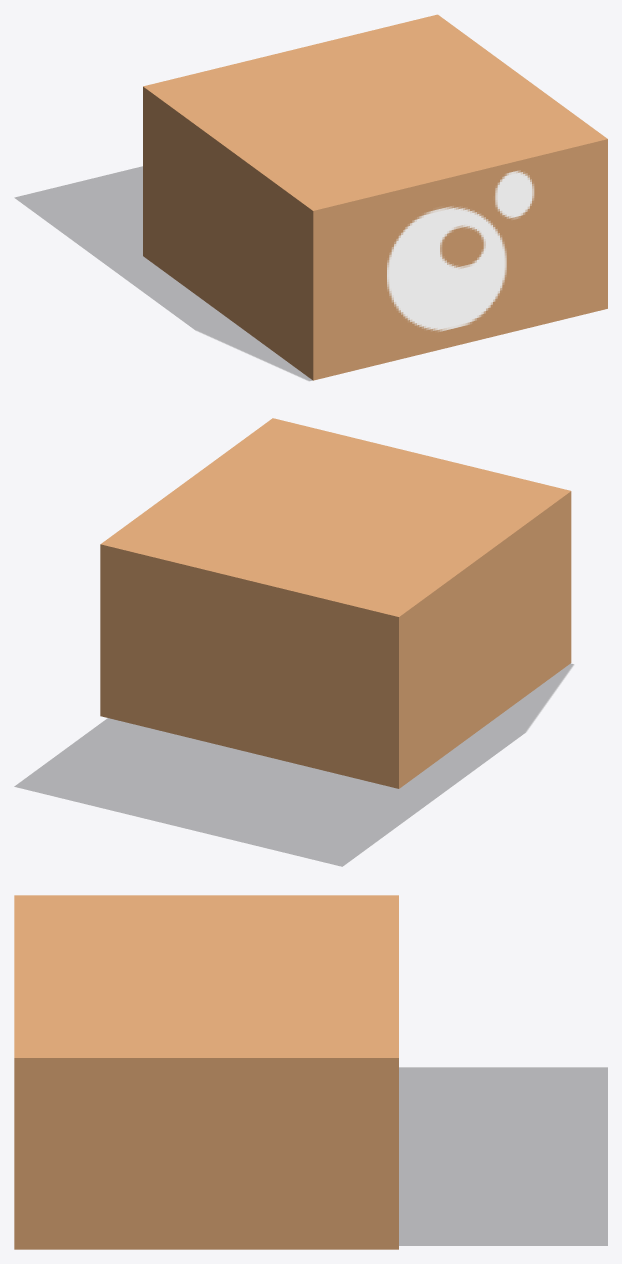
The model's file is block_09.glb.
The picture shows the model from 3 angles, top to bottom: view 1: azimuth 30°, elevation 25°; view 2: azimuth 150°, elevation 25°; view 3: azimuth 270°, elevation 25°; orthographic projection. The views are drawn at different scales.
Parts seen in each view (by area): view 1: hitObj, block; view 2: hitObj, block; view 3: hitObj, block.
Part boxes in pixels (x1,y1,x2,y2): hitObj: (143,14,607,380); block: (15,166,311,380); hitObj: (100,418,571,788); block: (14,664,573,866); hitObj: (14,895,398,1249); block: (399,1067,607,1245).
Size of the model in its own units: 11.24 by 5.51 by 15.44.
3 materials, 2 textured.
